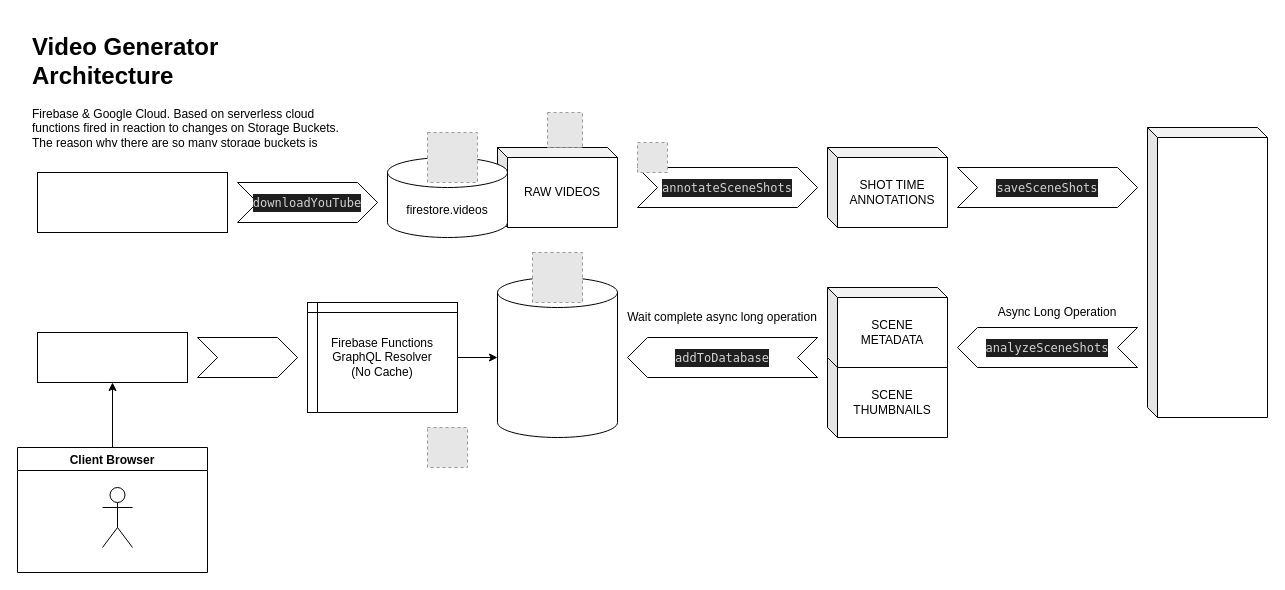
This 1285x590 diagram has some shape labels left out. Grey dashed boxes stand in for pictures. Each missing label, with the box of its shape:
Apollo GQL Client: (102, 486, 132, 548)
firestore.scenes: (496, 276, 618, 438)
graphql: (196, 336, 298, 378)
POST /downloadYouTube: (36, 172, 228, 232)
POST /graphql: (36, 332, 188, 382)
SCENE VIDEOS: (1146, 126, 1268, 418)
